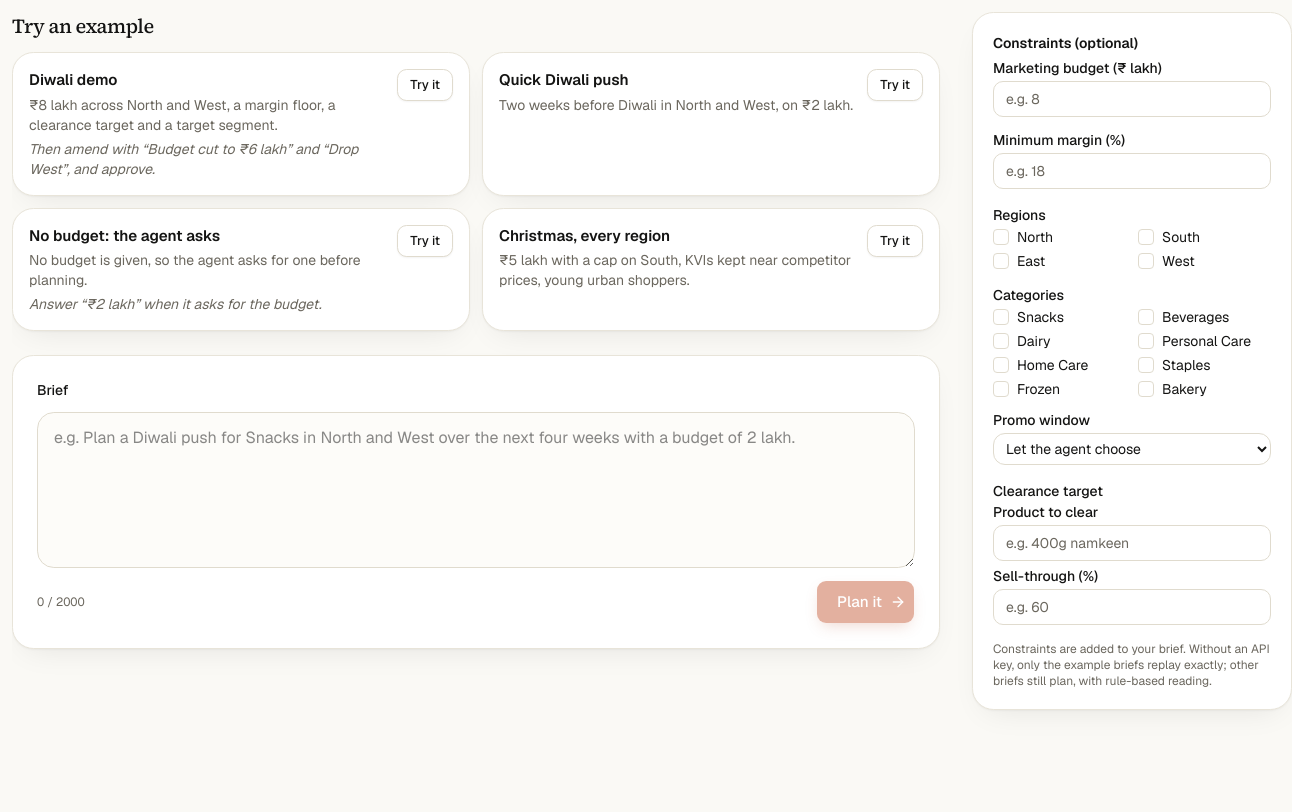
Test: example briefs › fills the brief with the example and clears the constraints, without planning
This screenshot has width=1292, height=812.
Type "3" into the field labelled "Marketing budget (₹ lakh)" at (1132, 99), box [993, 81, 1271, 117]
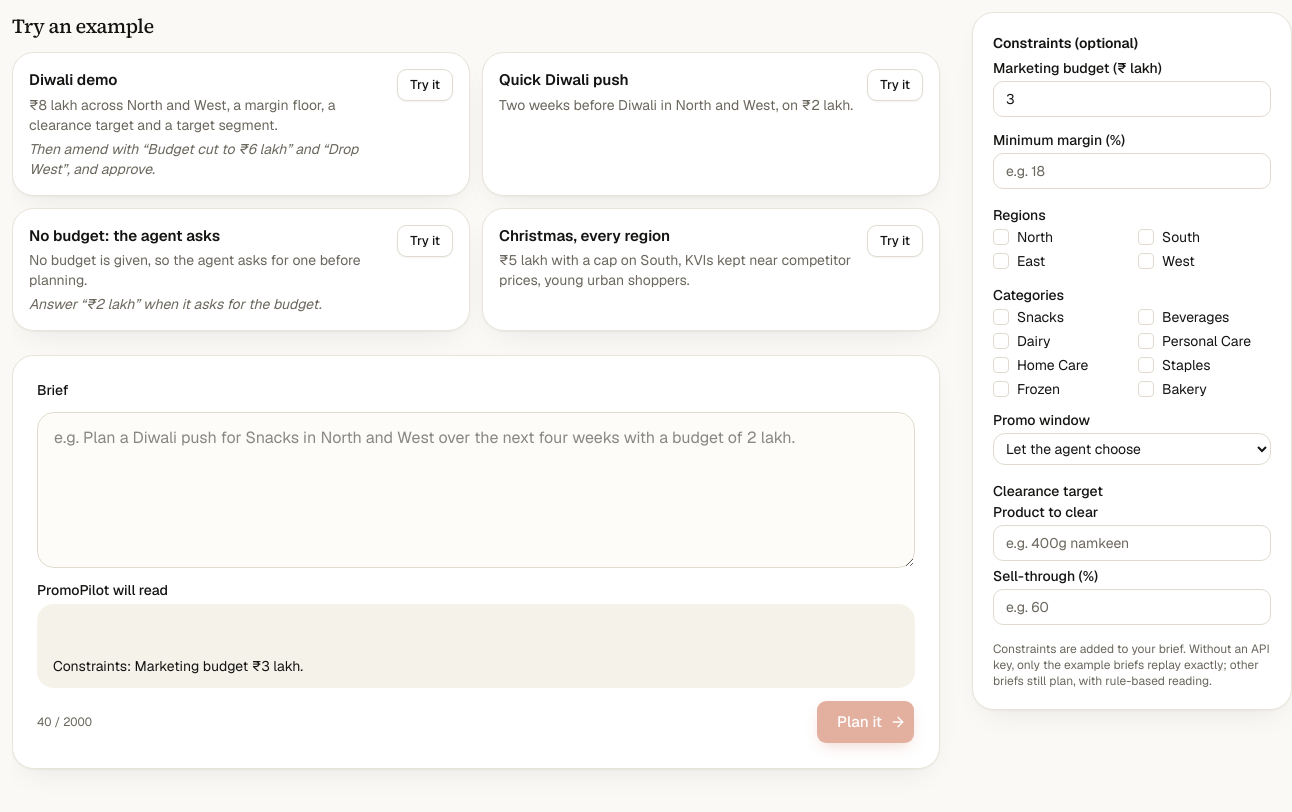
Click the 2nd checkbox named "South" at (1146, 237), box [1138, 229, 1154, 245]
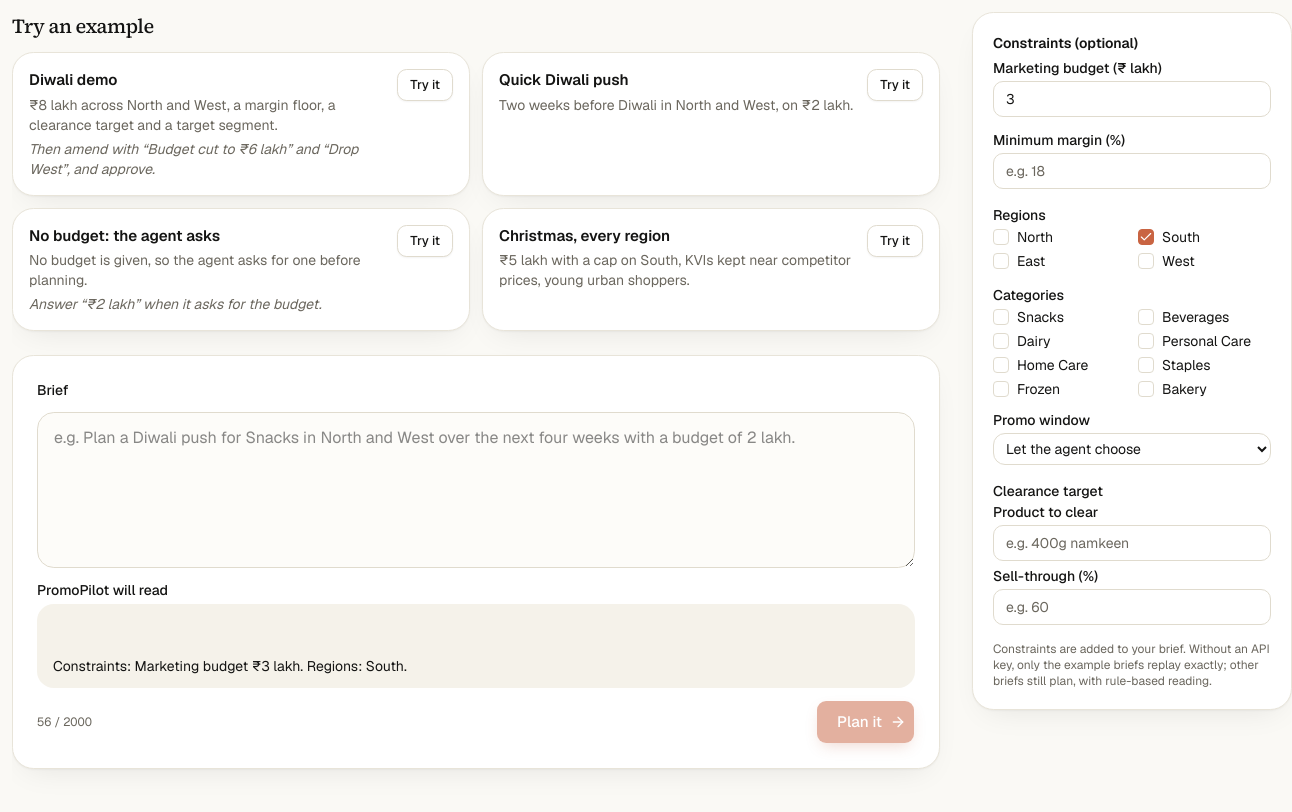
Click the button "Try it" in the row of "Diwali demo" at (425, 85), box [397, 69, 453, 101]
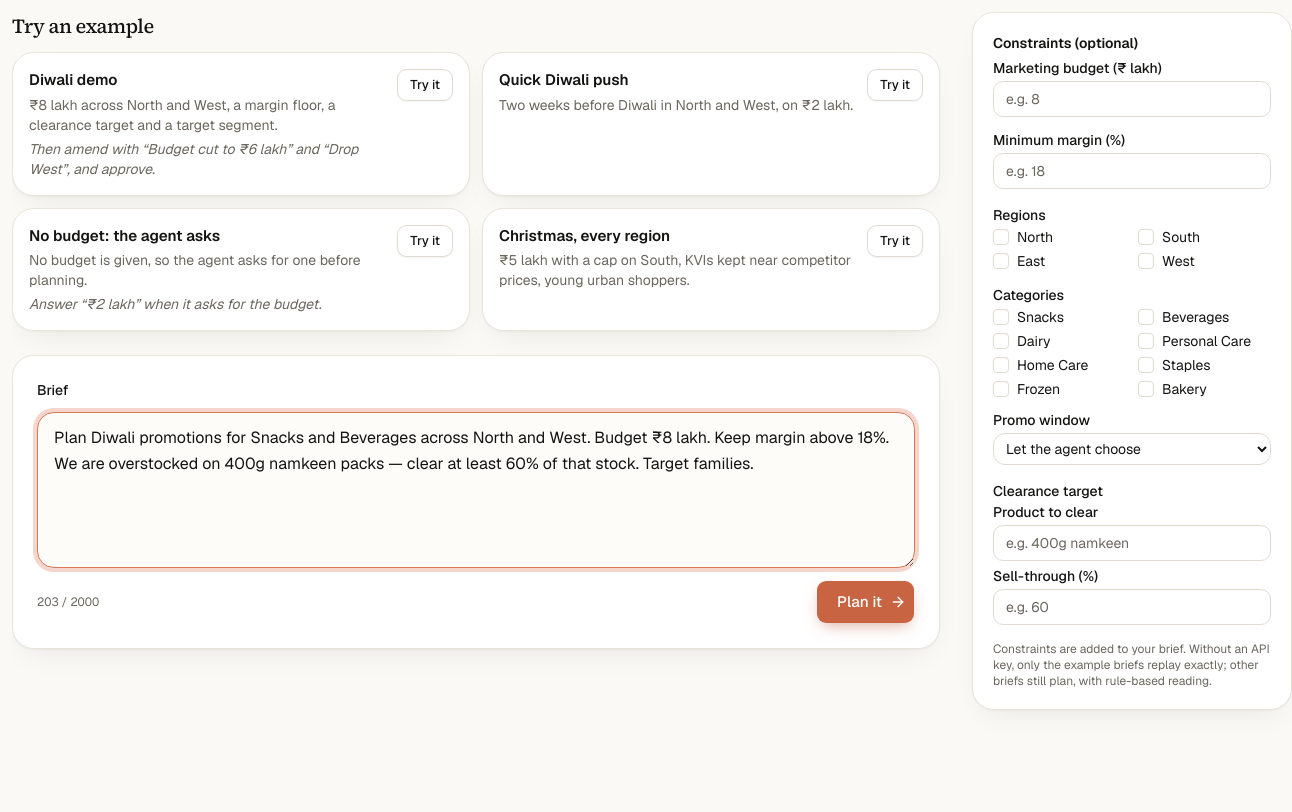
Result: the 2nd checkbox named "South" is not checked at [1138, 229, 1154, 245]
Result: the text box labelled "Brief" holds "Plan Diwali promotions for Snacks and Beverages across North and West. Budget ₹8 lakh. Keep margin above 18%. We are overstocked on 400g namkeen packs — clear a" at [37, 412, 915, 568]
Result: the field labelled "Marketing budget (₹ lakh)" is empty at [993, 81, 1271, 117]
